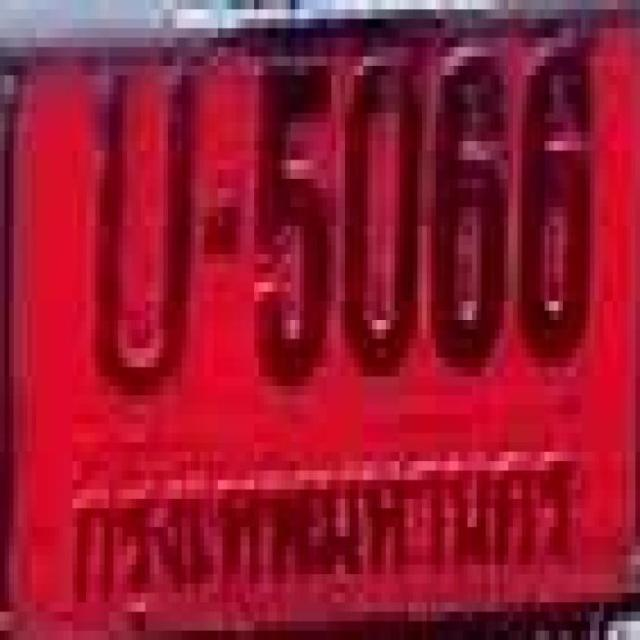0: (340, 59, 420, 368)
5: (252, 59, 328, 378)
6: (428, 46, 502, 363), (516, 43, 590, 356)
A26: (80, 72, 196, 392)
BKK: (61, 464, 582, 605)
